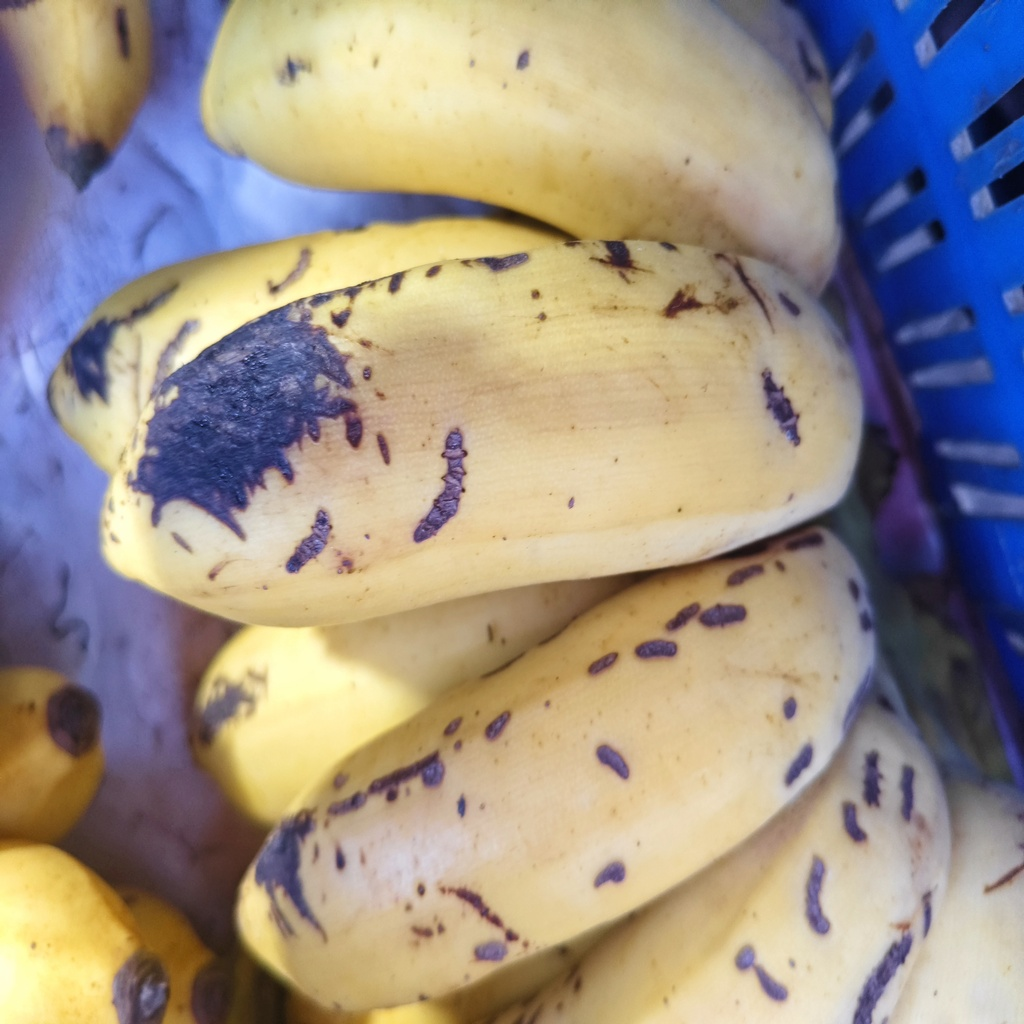unhealthy: (99, 240, 857, 646), (238, 529, 873, 1009), (199, 1, 842, 279)
